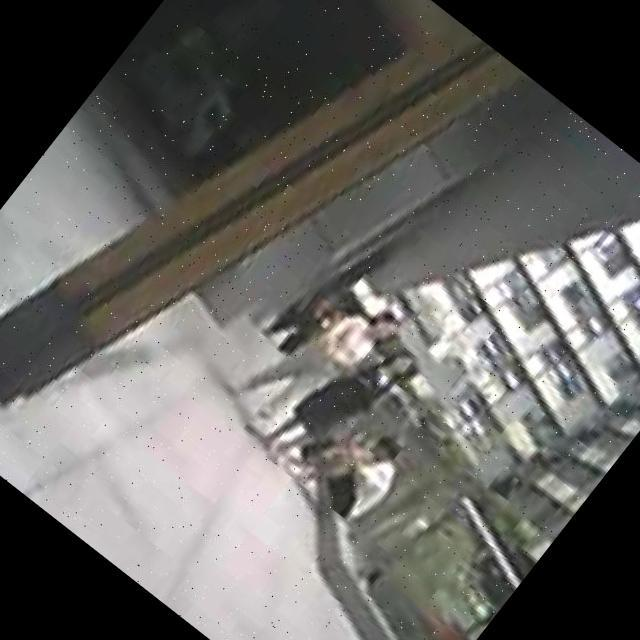person: (216, 260, 407, 465), (258, 311, 426, 494), (298, 411, 416, 532)
